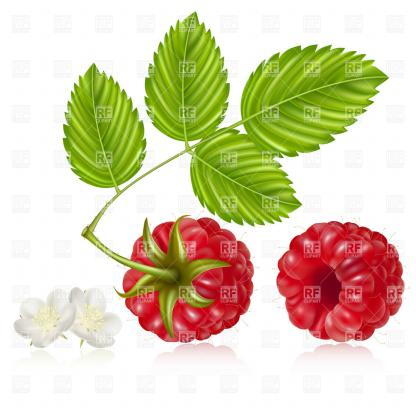Raspberry leaf: (242, 29, 387, 158), (63, 54, 148, 202), (187, 128, 305, 233), (144, 7, 231, 149)
